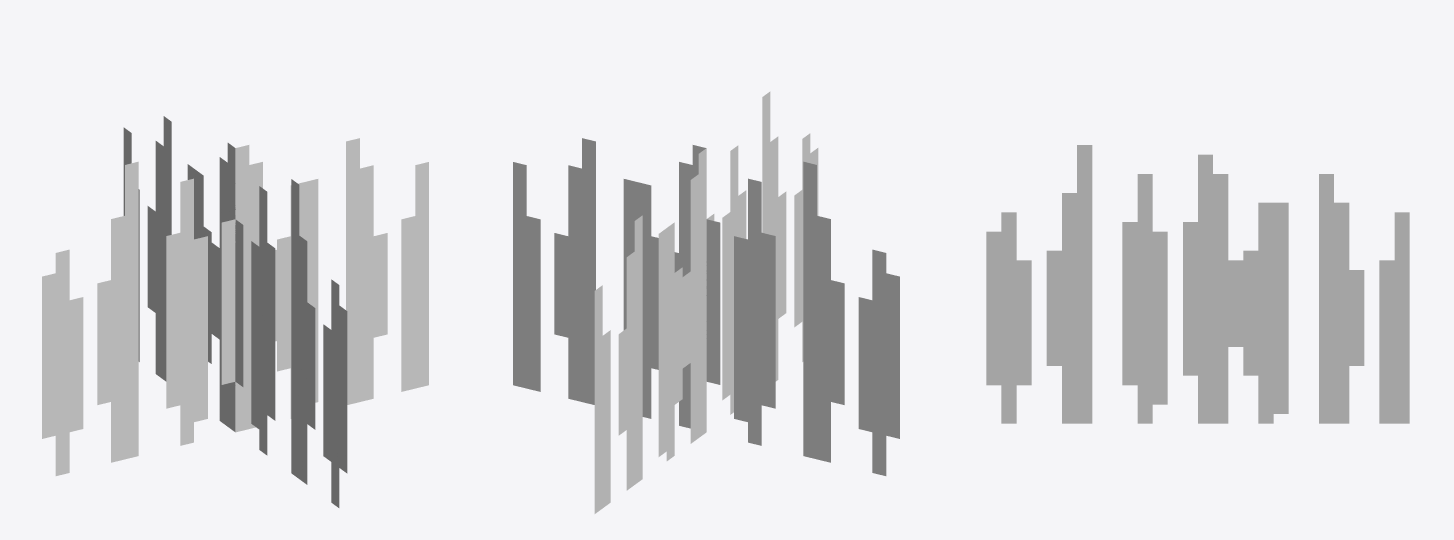
Rendered from grass_px.glb.
3 renders of one model, left to right at view 1: azimuth 30°, elevation 25°; view 2: azimuth 150°, elevation 25°; view 3: azimuth 270°, elevation 25°, orthographic. The views are drawn at different scales.
Visible parts, largest first — view 1: grass_pixelated.002; view 2: grass_pixelated.002; view 3: grass_pixelated.002.
Boxes of the visible parts, x1,y1,x2,y2 form: grass_pixelated.002: (42,116,428,507); grass_pixelated.002: (513,91,899,513); grass_pixelated.002: (986,145,1409,423).
Size of the model in its own units: 1.43 by 1 by 1.43.
Materials: 1 (1 with a texture image).
